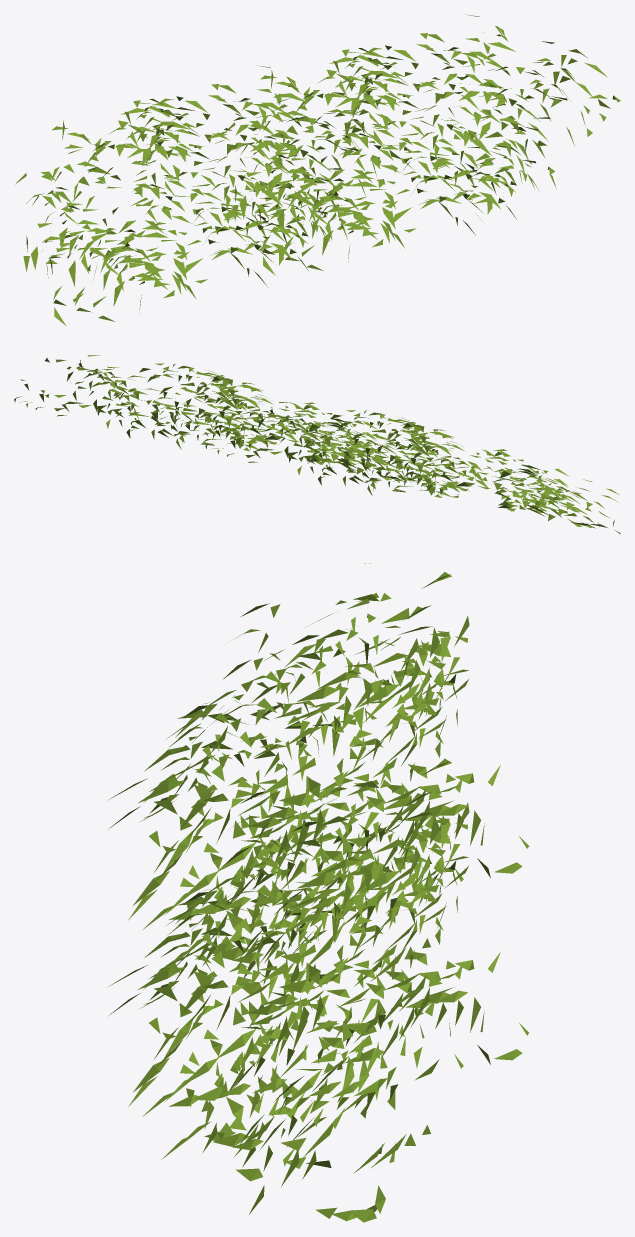
File: 36_openskp_material_70.001.obj
3 renders of one model, top to bottom at view 1: azimuth 30°, elevation 25°; view 2: azimuth 150°, elevation 25°; view 3: azimuth 270°, elevation 25°, orthographic. The views are drawn at different scales.
Parts seen in each view (by area): view 1: 36_openskp_material_70.001; view 2: 36_openskp_material_70.001; view 3: 36_openskp_material_70.001.
Boxes of the visible parts, x1,y1,x2,y2 form: 36_openskp_material_70.001: [15, 14, 620, 325]; 36_openskp_material_70.001: [14, 355, 620, 534]; 36_openskp_material_70.001: [108, 563, 529, 1222].
Bounding box in the file's own units: 18.83 × 4 × 6.
